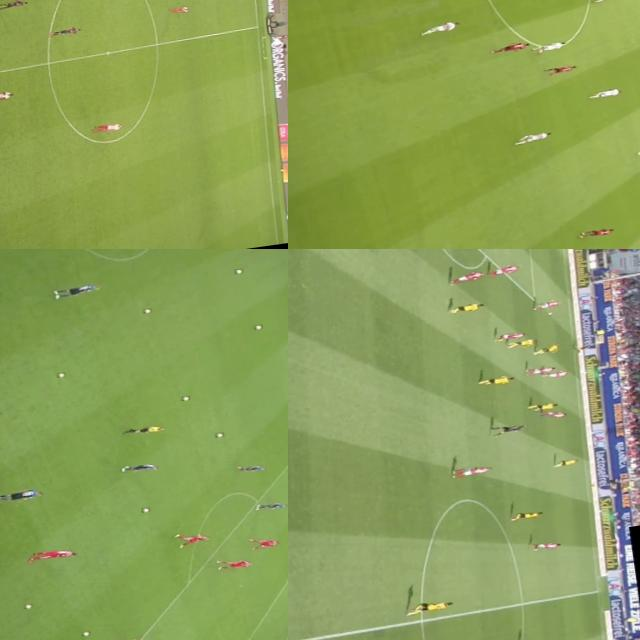ball: (230, 267, 246, 276), (18, 603, 33, 612), (174, 394, 190, 402), (136, 508, 152, 516), (542, 310, 554, 318), (252, 324, 263, 332), (78, 632, 92, 638), (142, 308, 152, 315), (214, 432, 225, 438), (56, 372, 66, 378), (632, 149, 640, 156)
player: (49, 283, 99, 302), (399, 599, 454, 615), (27, 546, 77, 562), (416, 21, 463, 38), (577, 225, 620, 241), (0, 489, 43, 505), (447, 300, 490, 316), (450, 463, 494, 478), (447, 270, 484, 287), (526, 398, 562, 415), (523, 540, 563, 555), (490, 40, 532, 54), (505, 509, 544, 524), (214, 558, 255, 572), (532, 41, 568, 56), (478, 374, 516, 388), (525, 299, 560, 314), (503, 337, 540, 351), (177, 532, 209, 548), (247, 536, 279, 552), (485, 265, 522, 278), (490, 331, 527, 344), (119, 462, 159, 474), (538, 408, 571, 422), (91, 121, 126, 134), (252, 500, 287, 513), (590, 88, 622, 102), (517, 133, 550, 145), (543, 64, 579, 75), (48, 27, 83, 38), (0, 0, 30, 12), (552, 458, 580, 470), (234, 465, 266, 475), (532, 344, 563, 354), (542, 370, 572, 380), (528, 366, 552, 377), (168, 6, 192, 15), (0, 91, 16, 102), (595, 0, 622, 3)
